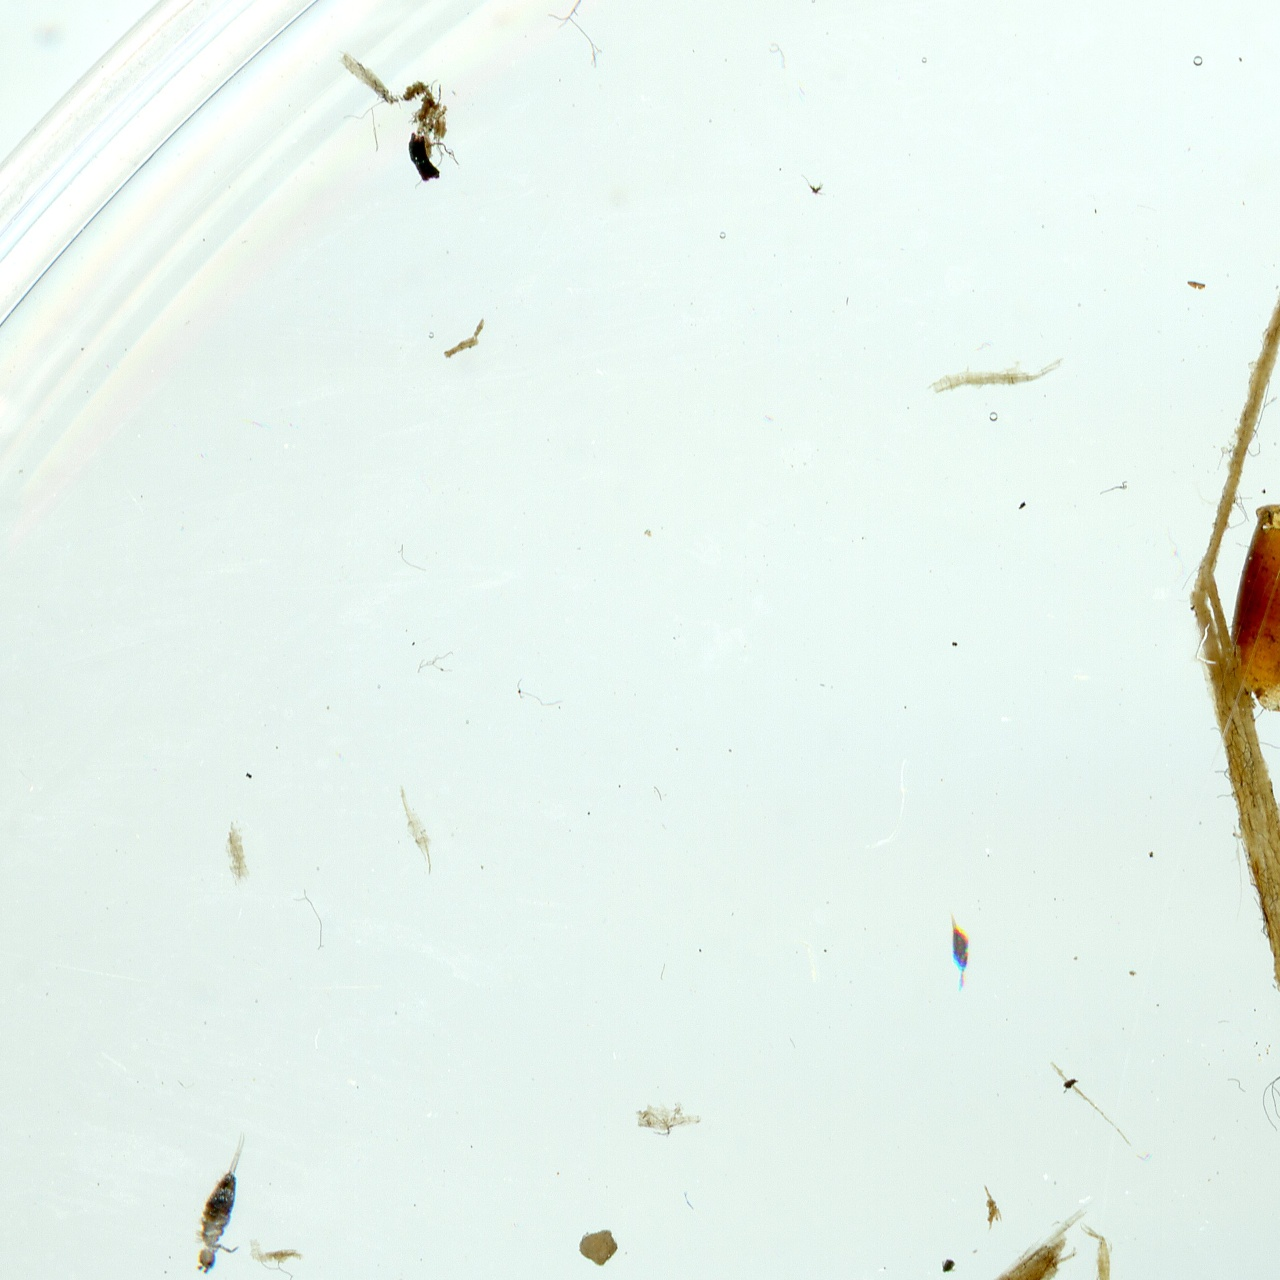arthropod: (179, 1118, 273, 1280), (945, 901, 972, 996)
